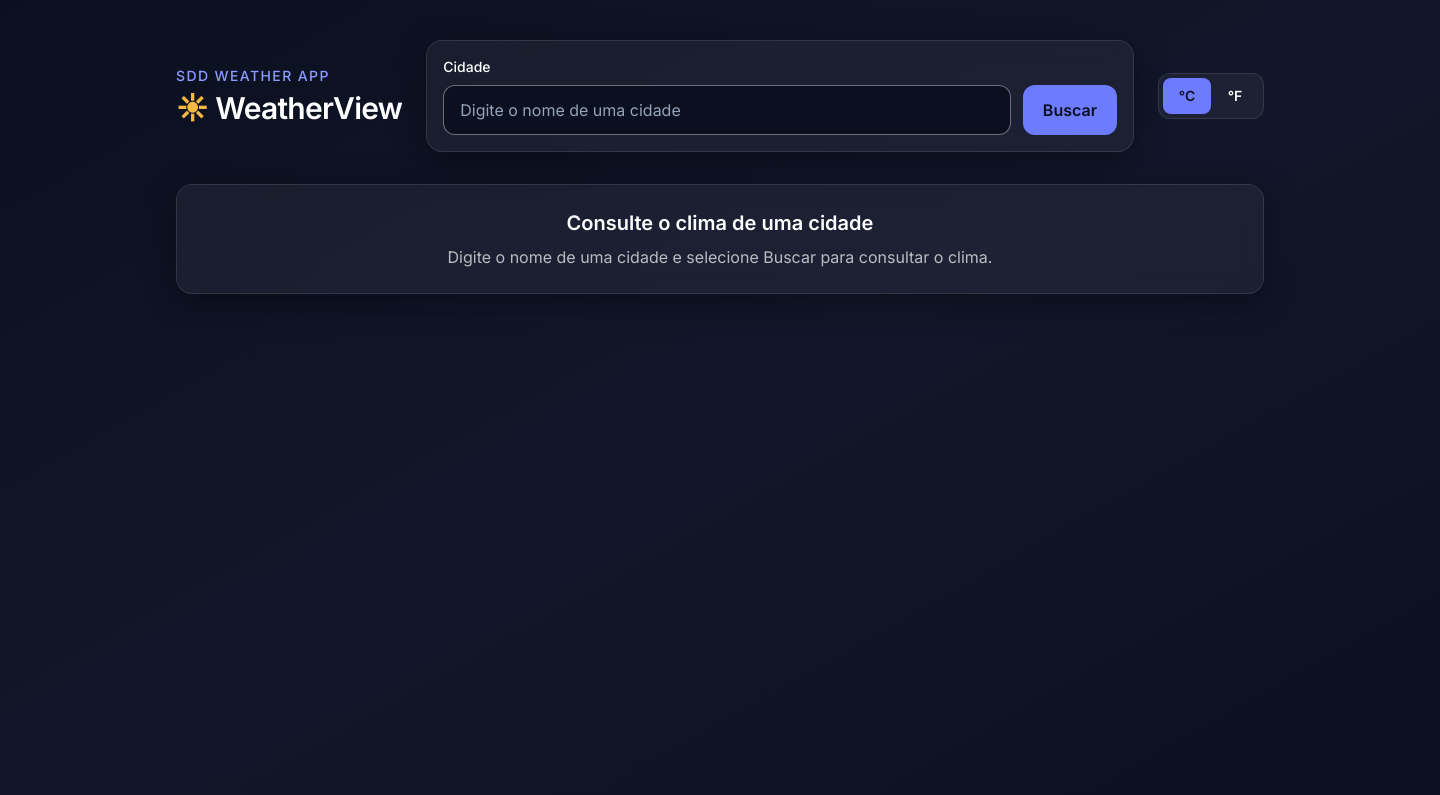
Scenario: App › converte temperaturas atuais e dos cinco dias sem mutar dados ou fazer novas requisições
Type "São Paulo" into the search field at (727, 110), box [443,85,1011,135]
Then press Enter
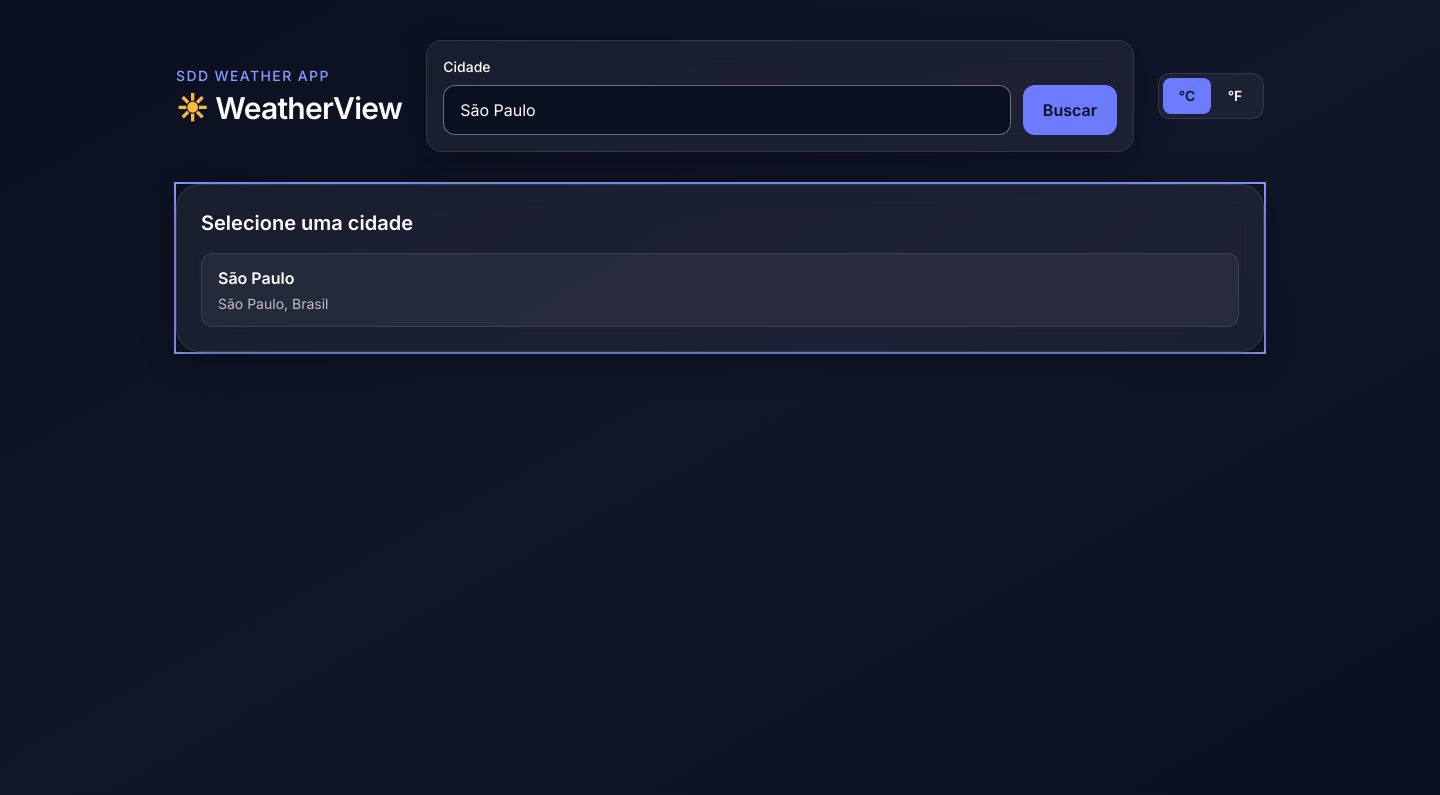
Click the button "São Paulo São Paulo, Brasil" at (256, 278), box [201,253,1239,327]
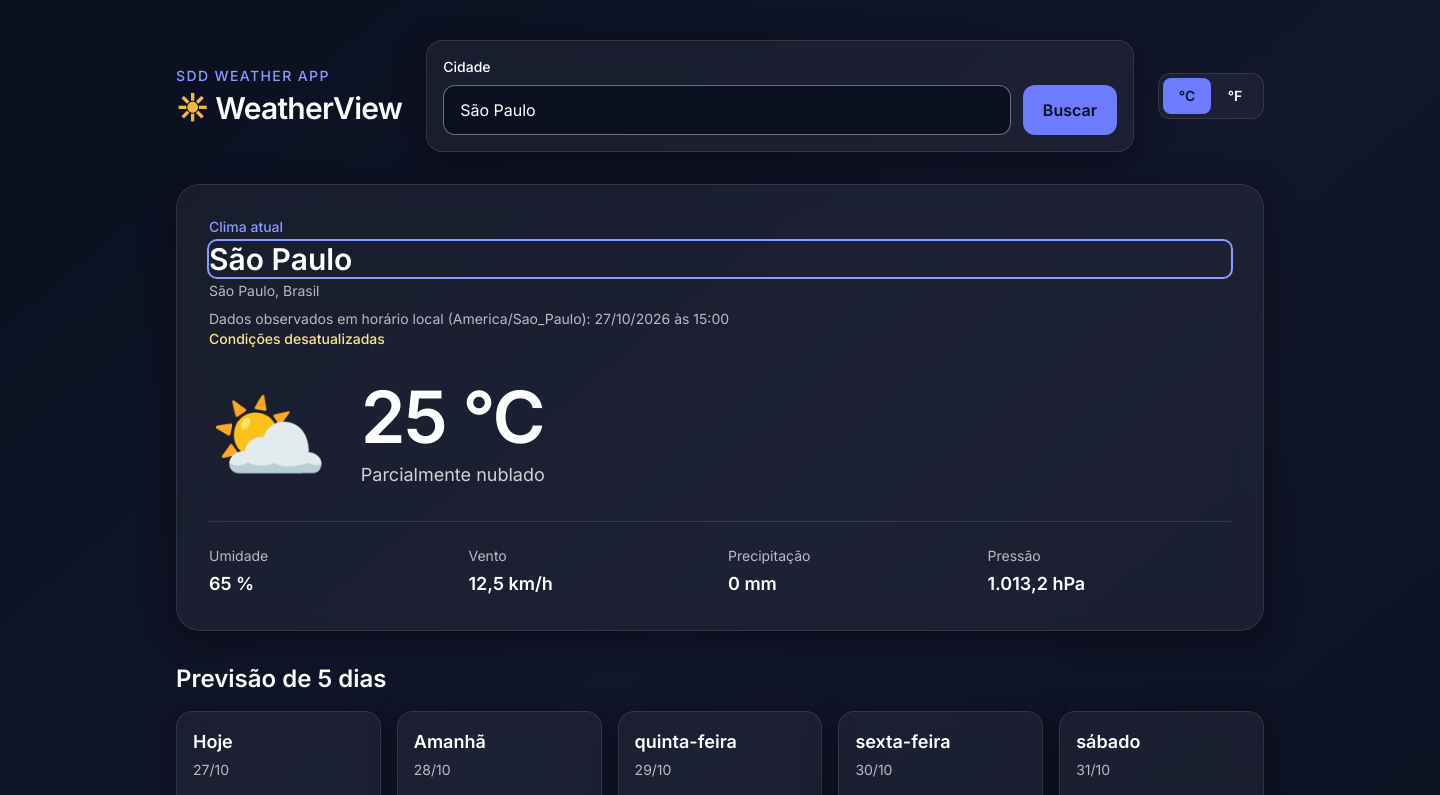
Now the text named "Temperatura: 25 °C" is shown, box [361,381,545,453]
Click the button named "Graus Fahrenheit" at (1235, 96), box [1211,78,1259,114]
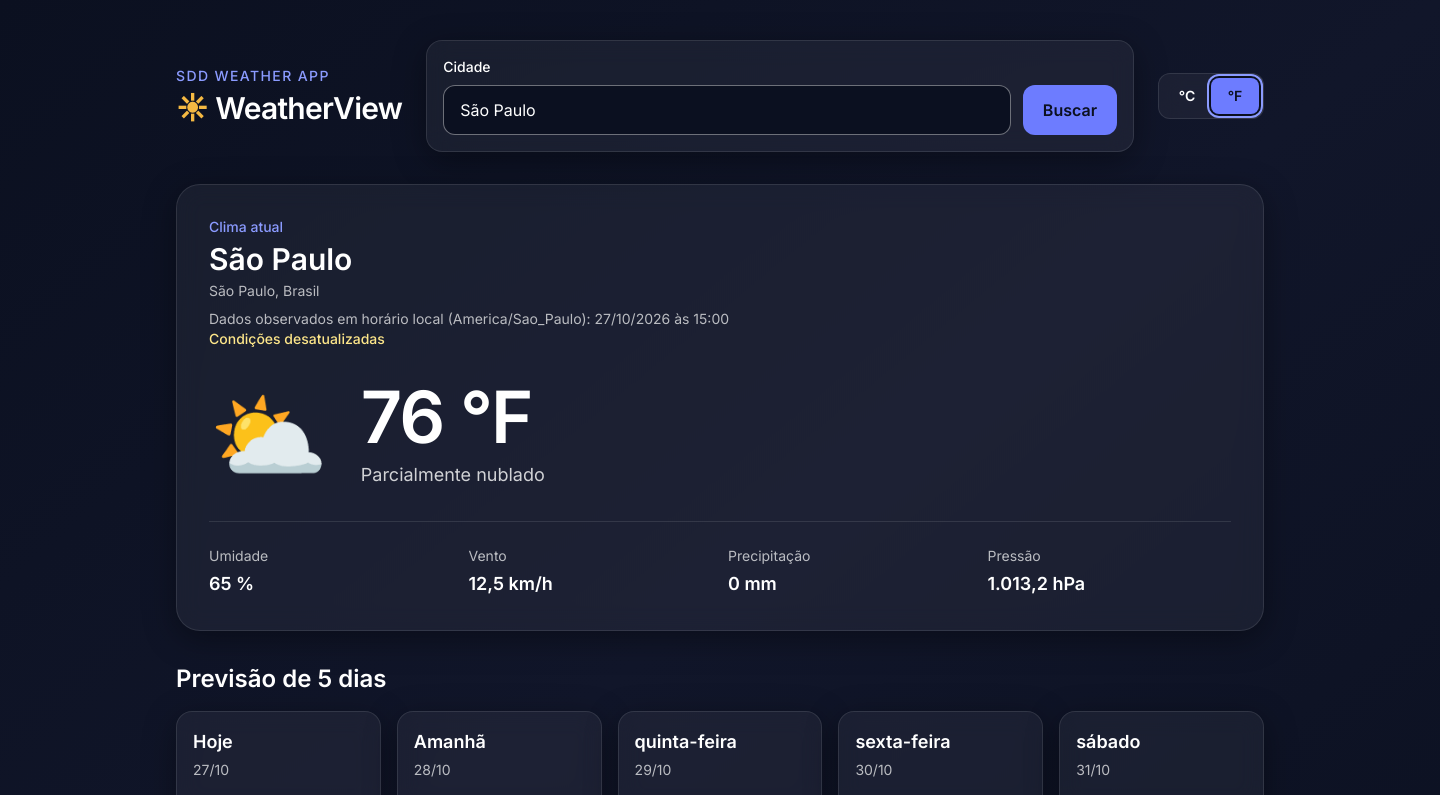
Now the text "12,5 km/h" is shown, box [468,573,553,594]
Now the text named "Temperatura: 76 °F" is shown, box [361,381,545,453]
Click the button named "Graus Celsius" at (1187, 96), box [1163,78,1211,114]
(page scrolled)
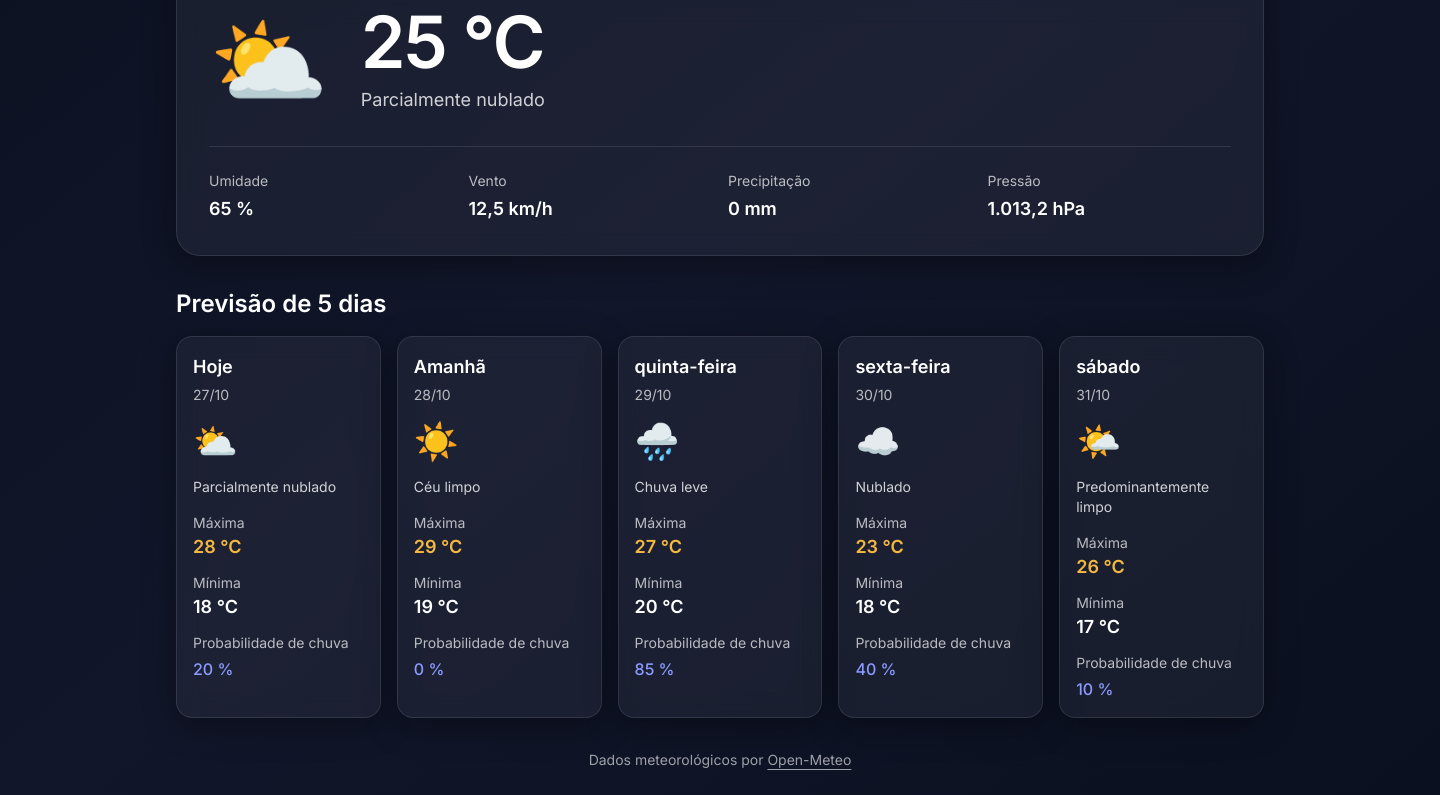
Now the text named "Temperatura: 25 °C" is shown, box [361,6,545,78]
Now the text "28 °C" is shown, box [193,536,242,557]
